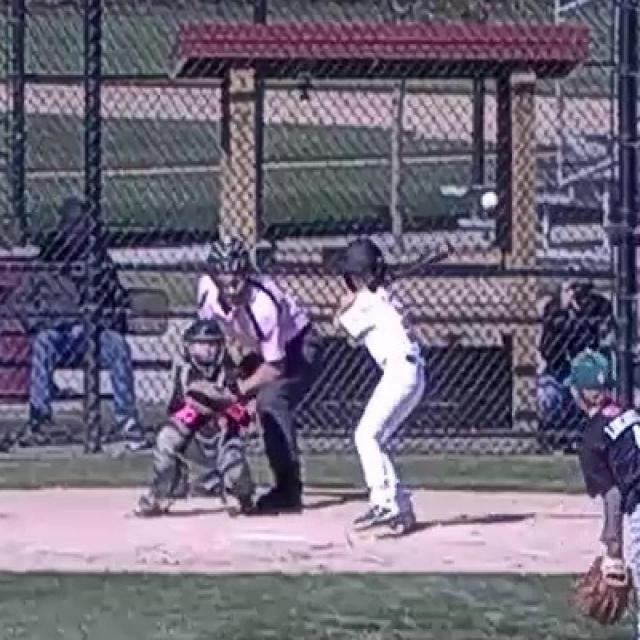baseball: (483, 192, 497, 208)
